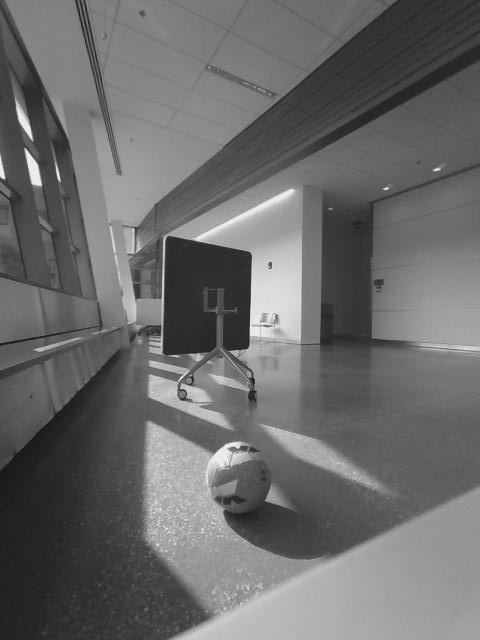ball: (205, 439, 280, 512)
